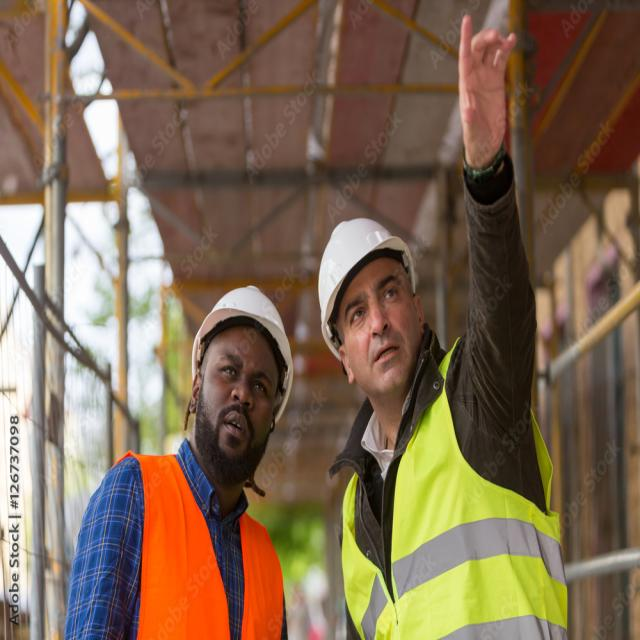helmet: (313, 212, 423, 344), (186, 268, 296, 388)
no-goggles: (198, 336, 289, 407), (335, 281, 418, 334)
vest: (332, 366, 576, 640), (134, 457, 288, 640)
